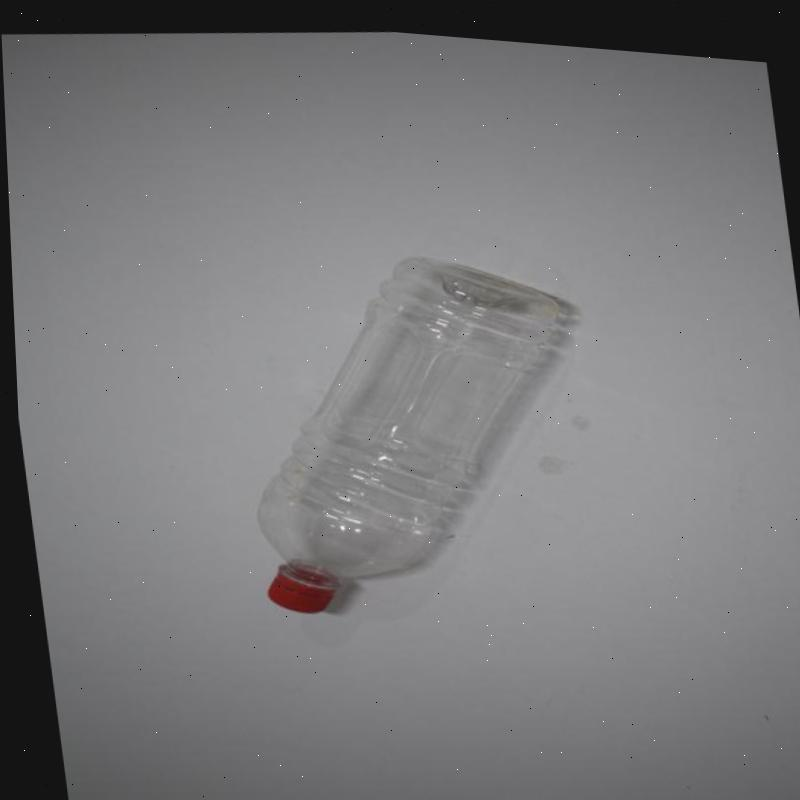botella: (207, 220, 620, 633)
